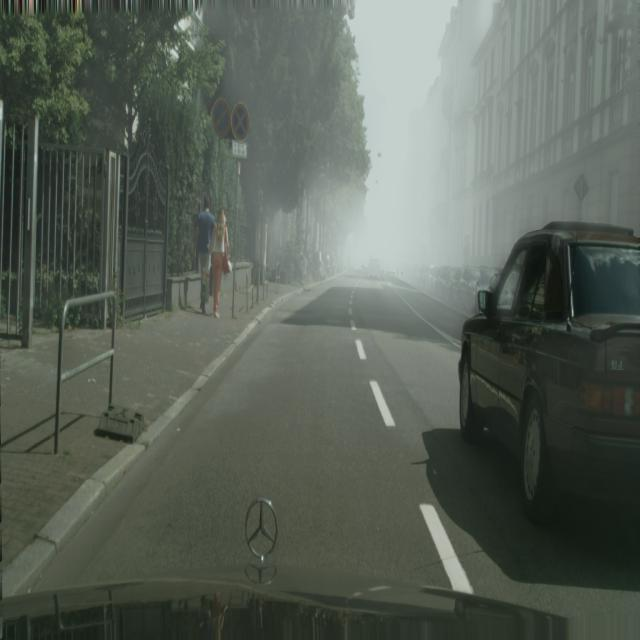bus: (194, 195, 216, 315), (208, 208, 230, 318)
person: (458, 222, 639, 521), (473, 266, 501, 314), (458, 264, 482, 311), (446, 267, 462, 304), (437, 266, 451, 299), (426, 264, 442, 292), (368, 258, 380, 278)
